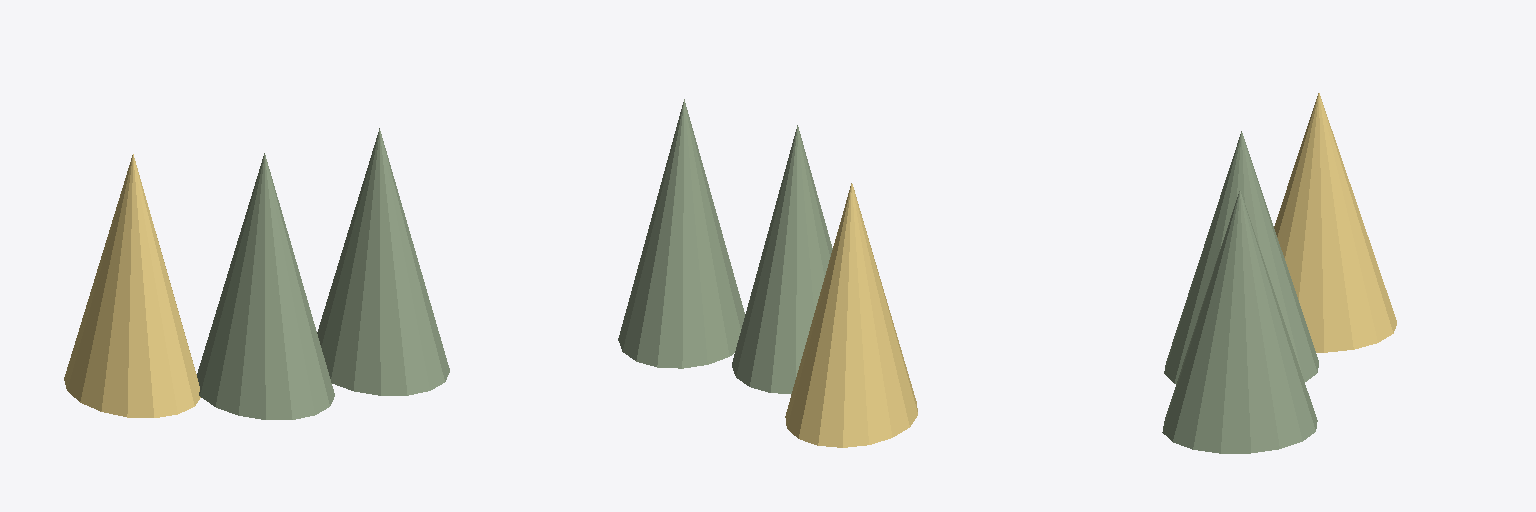
The model's file is spikes.obj.
The picture shows the model from 3 angles: view 1: azimuth 30°, elevation 25°; view 2: azimuth 150°, elevation 25°; view 3: azimuth 270°, elevation 25°; orthographic projection.
Parts seen in each view (by area): view 1: cone46, cone47; view 2: cone46, cone47; view 3: cone46, cone47.
Part boxes in pixels (left/top/right/bottom): cone46: left=197, top=128, right=449, bottom=419; cone47: left=64, top=154, right=200, bottom=417; cone46: left=618, top=99, right=832, bottom=393; cone47: left=785, top=183, right=917, bottom=447; cone46: left=1162, top=131, right=1318, bottom=453; cone47: left=1274, top=93, right=1396, bottom=352.
Bounding box in the file's own units: 4.26 × 3.08 × 2.73.